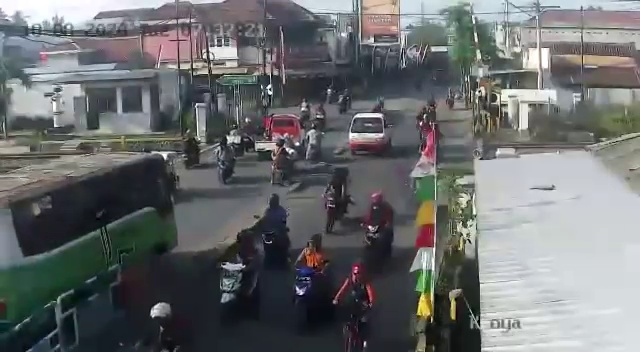car: (39, 151, 184, 290), (349, 111, 392, 160)
motorbike: (220, 229, 266, 319), (291, 237, 332, 331), (362, 192, 397, 274), (256, 194, 297, 262), (323, 163, 352, 237), (214, 135, 238, 187), (273, 133, 291, 186), (183, 130, 204, 170), (421, 112, 435, 164), (306, 123, 323, 164), (298, 99, 311, 126), (316, 103, 326, 130)
